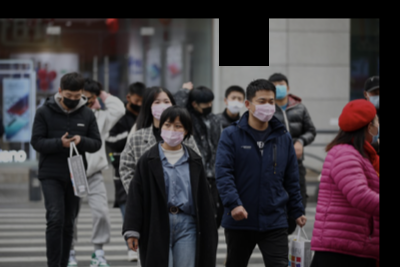with_mask: (160, 119, 186, 147), (250, 95, 276, 121), (150, 96, 174, 121), (61, 90, 83, 110), (227, 94, 246, 113), (271, 80, 288, 100), (367, 90, 380, 110), (129, 96, 144, 112), (198, 100, 213, 115)
